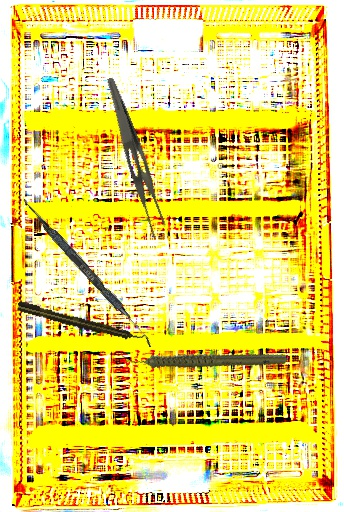Dressing Forceps: (89, 76, 176, 240)
Handpiece: (119, 317, 290, 399), (16, 299, 146, 346)
Spatula Surgical: (17, 197, 159, 348)
